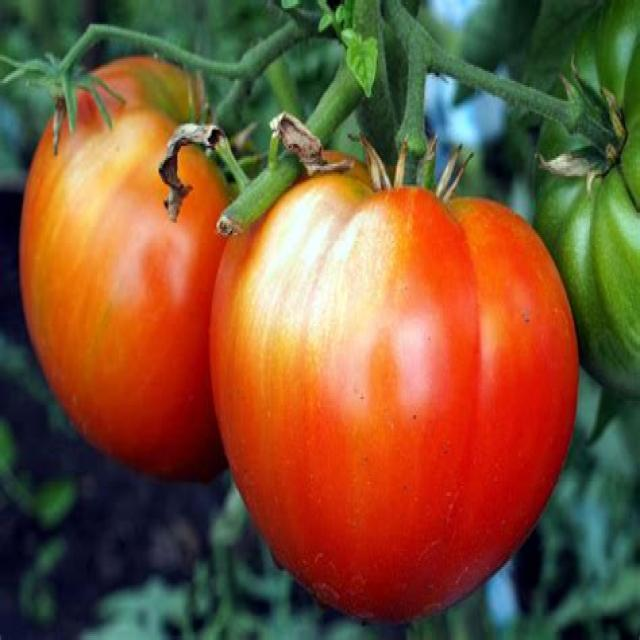Tomato: (206, 142, 580, 626), (20, 54, 247, 486)
